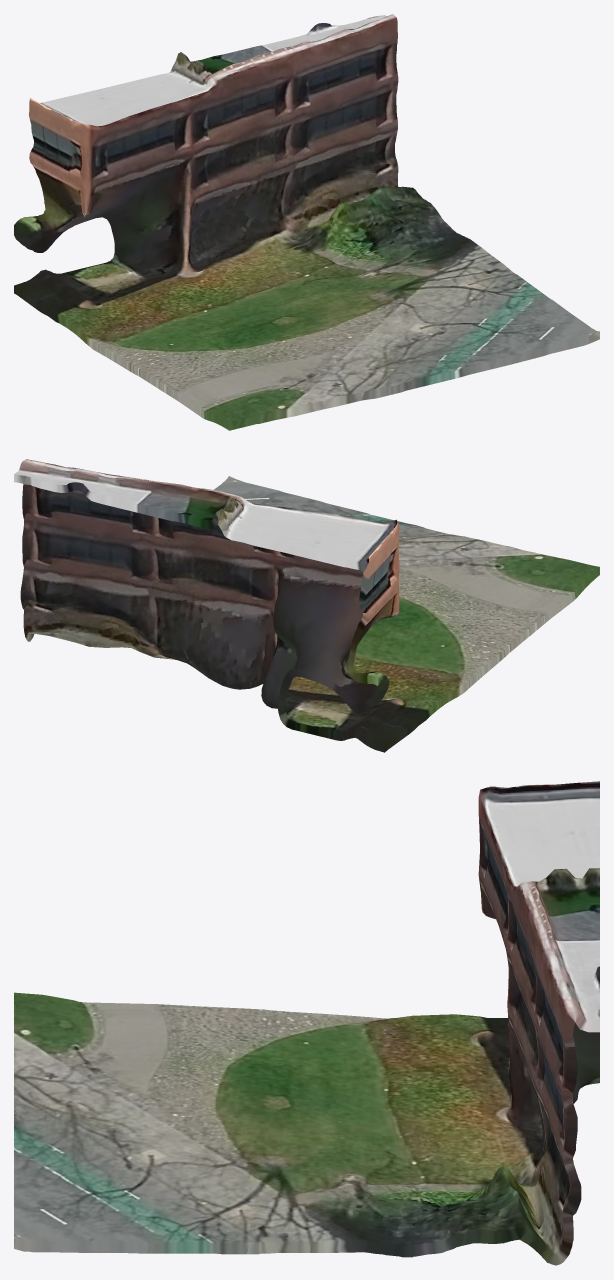
Rendered from z20-167770-405196-h0-yup-uvflip-v3-world.glb.
The picture shows the model from 3 angles, top to bottom: view 1: azimuth 30°, elevation 25°; view 2: azimuth 150°, elevation 25°; view 3: azimuth 270°, elevation 25°; orthographic projection. The views are drawn at different scales.
Bounding box in the file's own units: 30.16 × 15.64 × 30.32.
1 material, 1 textured.
